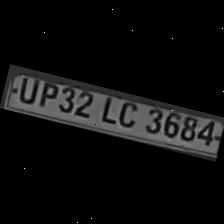2: (70, 86, 96, 118)
3: (138, 104, 165, 134), (53, 81, 77, 113)
4: (194, 114, 218, 146)
6: (158, 108, 182, 138)
8: (175, 110, 199, 141)
C: (113, 97, 140, 128)
L: (93, 92, 119, 124)
P: (34, 76, 58, 108)
U: (12, 73, 38, 104)
